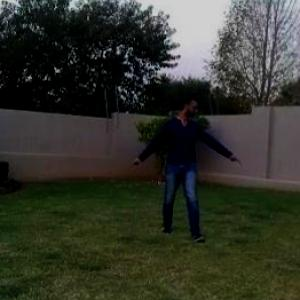land: (130, 81, 248, 242)
